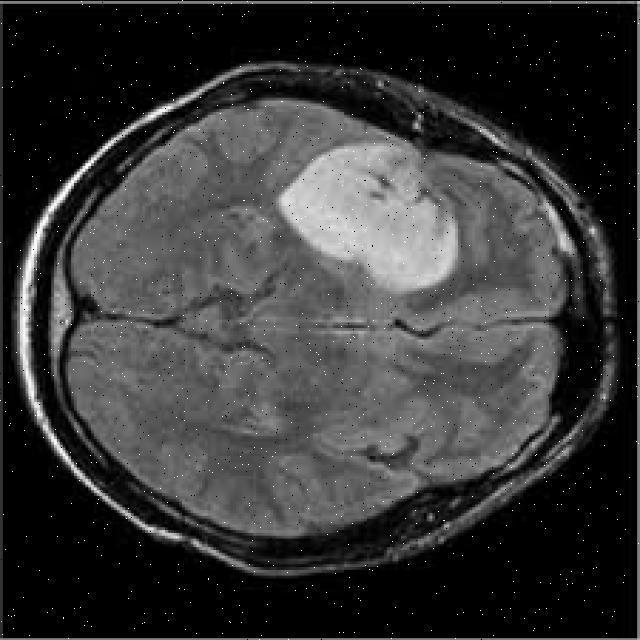Meningioma: (280, 143, 458, 291)
